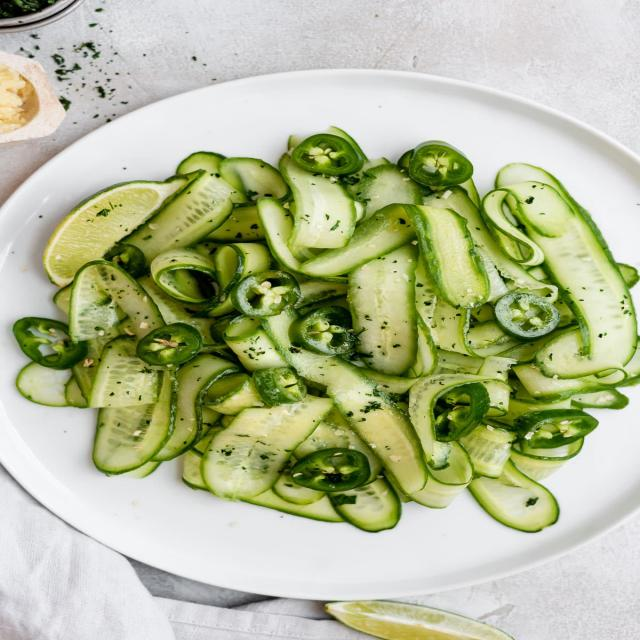Pickle: (481, 164, 637, 379), (260, 310, 427, 495), (43, 175, 189, 286), (423, 186, 558, 301), (202, 395, 333, 500), (122, 171, 236, 264), (152, 354, 240, 461), (348, 244, 418, 376), (92, 370, 176, 475), (405, 204, 489, 309), (300, 204, 416, 276), (408, 374, 494, 470), (279, 154, 356, 256), (468, 460, 558, 532), (416, 260, 474, 355), (69, 261, 125, 359), (88, 335, 163, 408), (137, 274, 214, 344), (202, 242, 272, 316), (328, 478, 401, 532), (354, 164, 423, 219), (223, 315, 288, 371), (511, 364, 609, 401), (257, 198, 302, 274), (243, 489, 345, 522), (459, 424, 517, 478), (219, 158, 288, 200), (17, 361, 71, 406), (204, 202, 264, 242), (494, 399, 571, 425), (429, 441, 472, 485), (210, 315, 236, 344)
